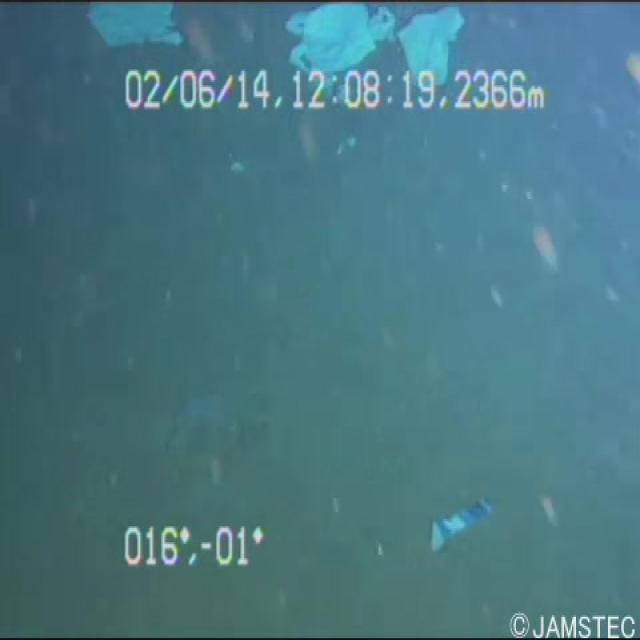plastic: (274, 0, 390, 85), (399, 0, 472, 94), (79, 2, 185, 53)
